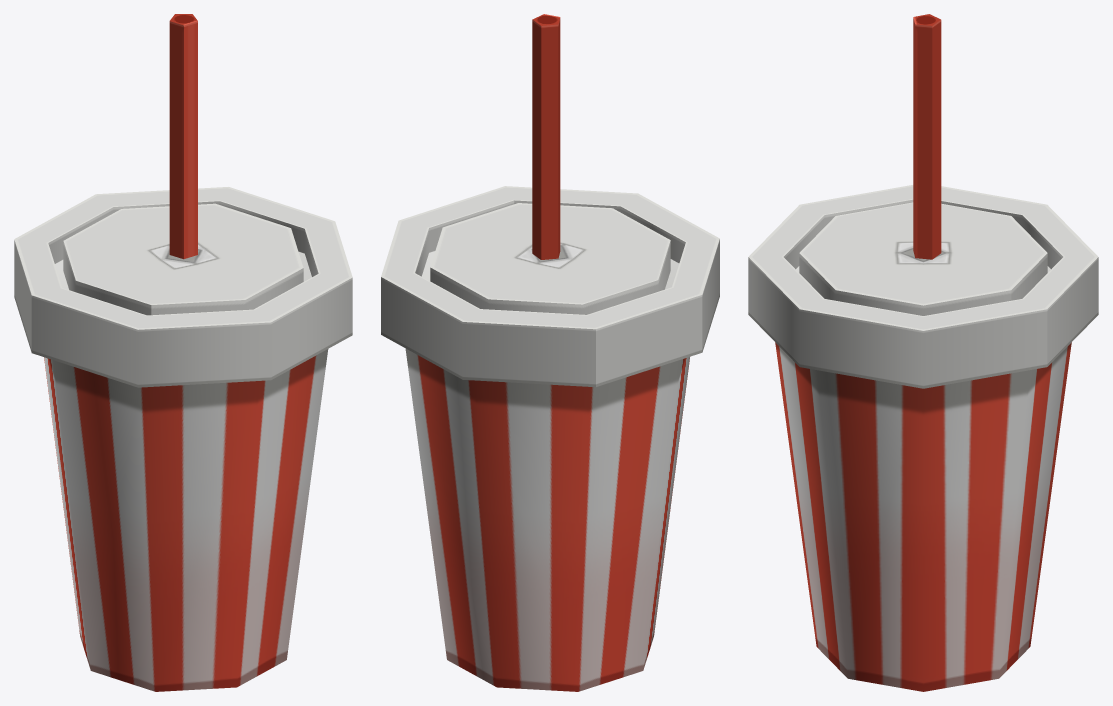
File: coke cup.FBX
3 renders of one model, left to right at view 1: azimuth 30°, elevation 25°; view 2: azimuth 150°, elevation 25°; view 3: azimuth 270°, elevation 25°, orthographic.
Visible parts, largest first — view 1: coke cup; view 2: coke cup; view 3: coke cup.
Boxes of the visible parts, <box> form: coke cup: <box>14,14,352,691</box>; coke cup: <box>381,14,719,691</box>; coke cup: <box>748,14,1098,691</box>.
Size of the model in its own units: 5.98 by 11.82 by 5.98.
